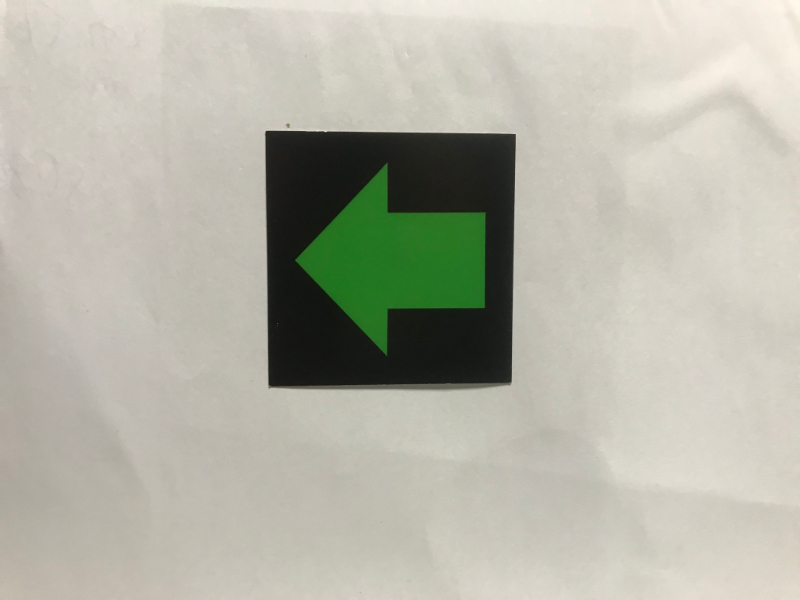RA-3: (274, 137, 506, 376)
